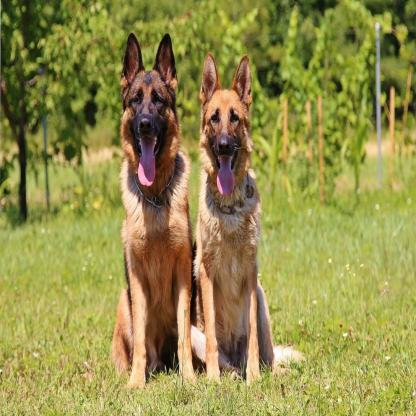german shepherd: (192, 57, 304, 380), (113, 29, 194, 383)
